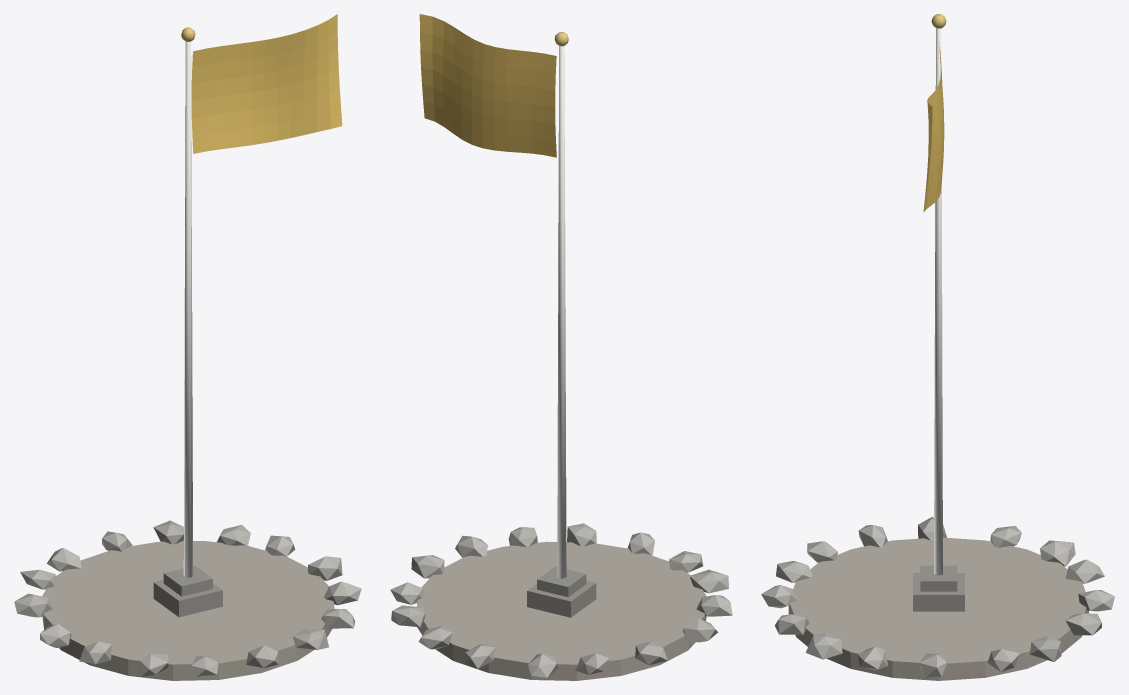
Rendered from flag.glb.
3 views of the same model, side by side, from view 1: azimuth 30°, elevation 25°; view 2: azimuth 150°, elevation 25°; view 3: azimuth 270°, elevation 25° (orthographic). The views are drawn at different scales.
Visible parts, largest first — view 1: flag; view 2: flag; view 3: flag.
Boxes of the visible parts, x1=… form: flag: x1=14, y1=14, x2=361, y2=680; flag: x1=390, y1=14, x2=732, y2=680; flag: x1=761, y1=14, x2=1114, y2=680.
Size of the model in its own units: 6.19 by 11.52 by 6.13.
